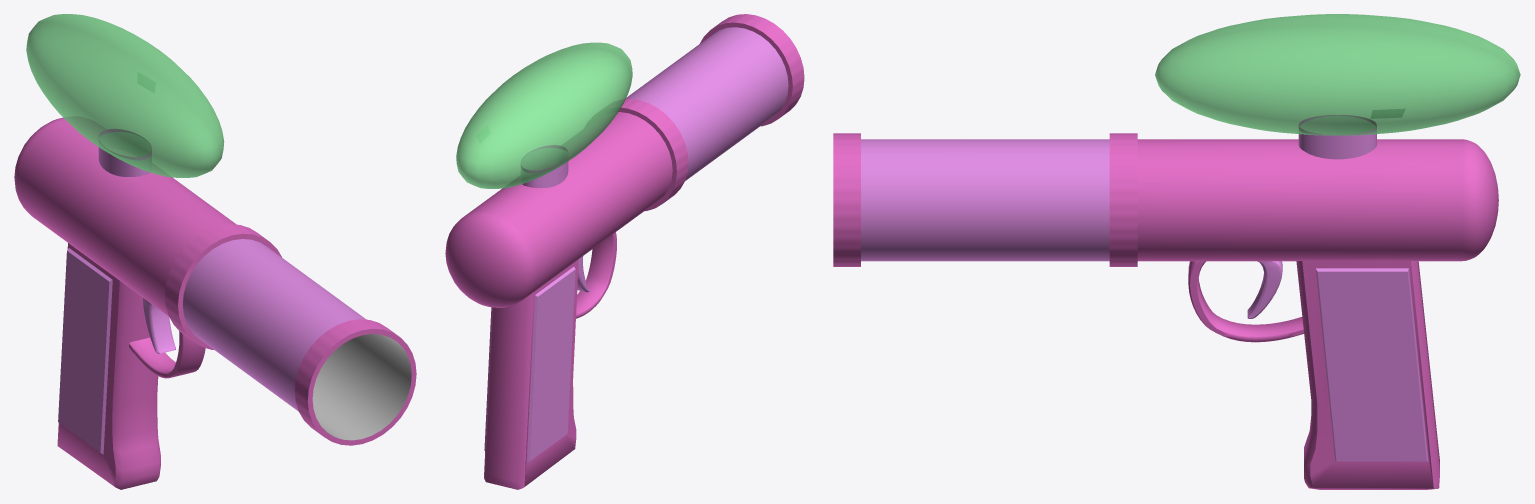
File: Splashgun.gltf
3 views of the same model, side by side, from view 1: azimuth 30°, elevation 25°; view 2: azimuth 150°, elevation 25°; view 3: azimuth 270°, elevation 25° (orthographic). The views are drawn at different scales.
Parts seen in each view (by area): view 1: Sphere; view 2: Sphere; view 3: Sphere.
Boxes of the visible parts, x1,y1,x2,y2 form: Sphere: (14,14,416,489); Sphere: (445,14,804,489); Sphere: (833,14,1520,489).
Bounding box in the file's own units: 2.2 × 8.35 × 11.28.
